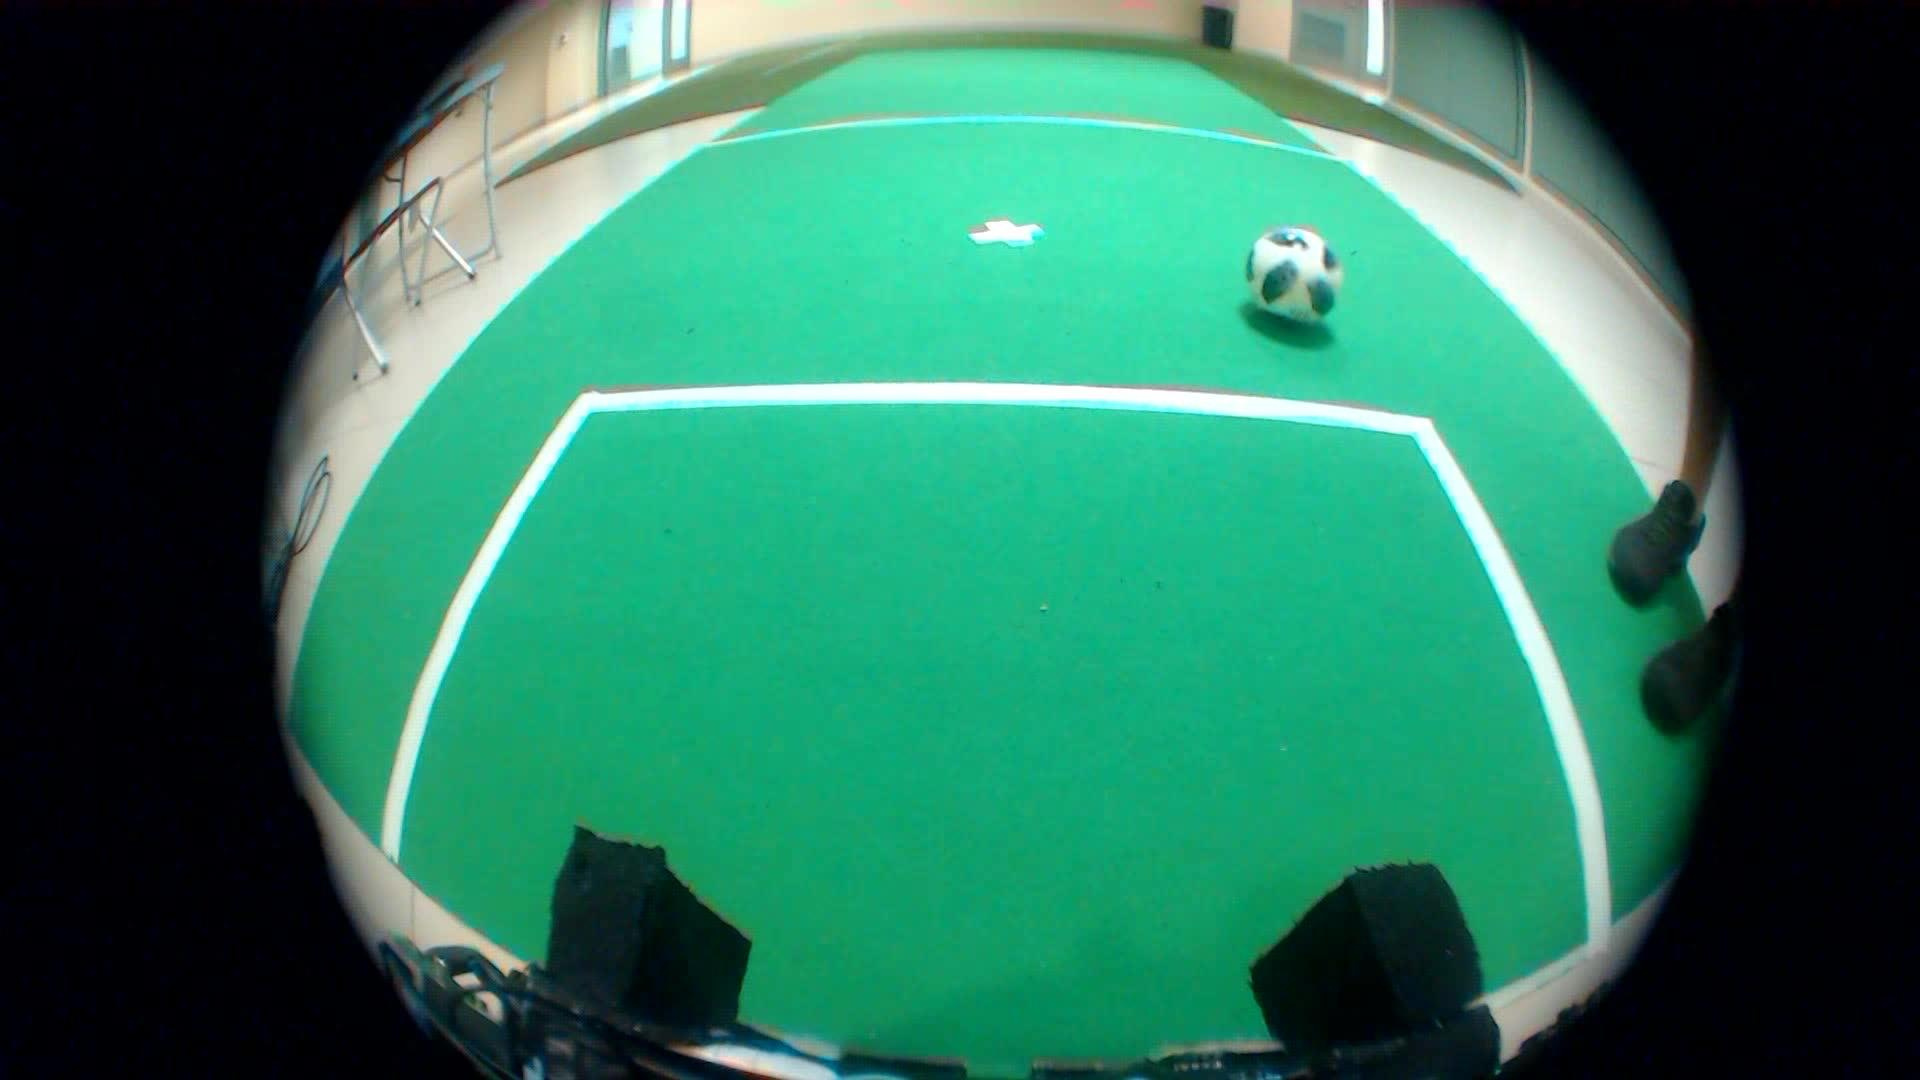ball: (1228, 211, 1360, 344)
